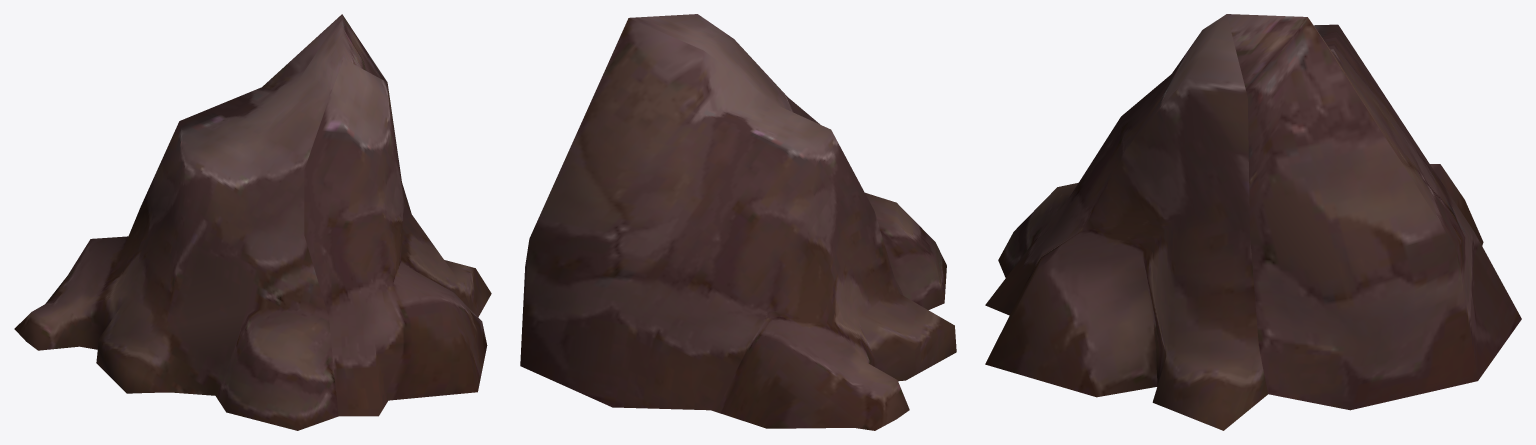
Rendered from huoshan_shitou07.fbx.
The picture shows the model from 3 angles, left to right: view 1: azimuth 30°, elevation 25°; view 2: azimuth 150°, elevation 25°; view 3: azimuth 270°, elevation 25°; orthographic projection. The views are drawn at different scales.
Visible parts, largest first — view 1: huoshan_shitou07; view 2: huoshan_shitou07; view 3: huoshan_shitou07.
Part boxes in pixels (x1,y1,x2,y2): huoshan_shitou07: (14, 14, 491, 430); huoshan_shitou07: (520, 14, 956, 430); huoshan_shitou07: (985, 14, 1521, 430).
Size of the model in its own units: 0.6542 by 0.443 by 0.6243.
